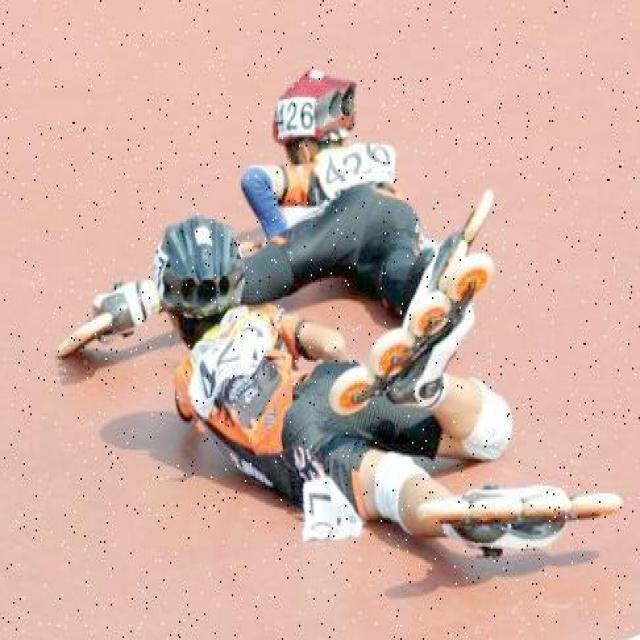fall: (148, 218, 456, 582)
